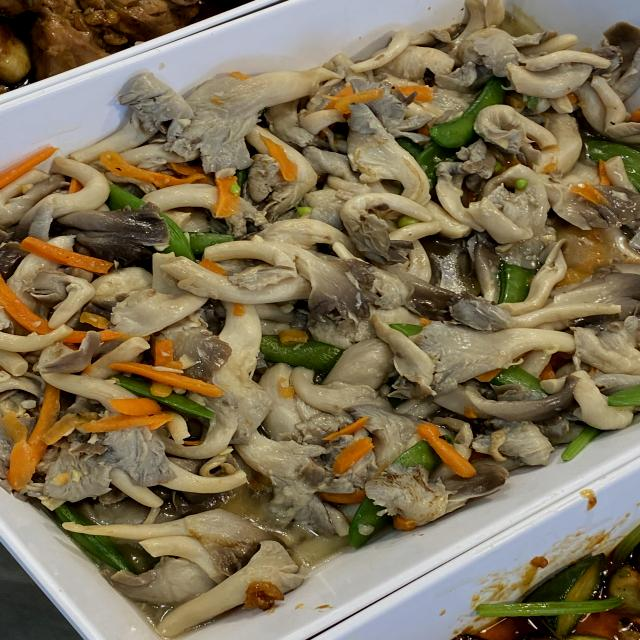Fushan-lettuceStir-fried Sweet Beans with Oyster Mushrooms: (62, 145, 590, 435)
